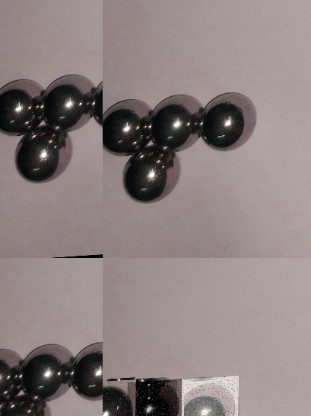ironball: (201, 86, 259, 153), (124, 147, 188, 204), (101, 95, 158, 158), (17, 130, 80, 186), (38, 70, 96, 130), (1, 74, 53, 131), (153, 91, 199, 151), (27, 340, 68, 396), (177, 378, 239, 415), (127, 380, 182, 415), (72, 341, 100, 395), (0, 348, 23, 407), (102, 379, 136, 415), (0, 398, 55, 414)
